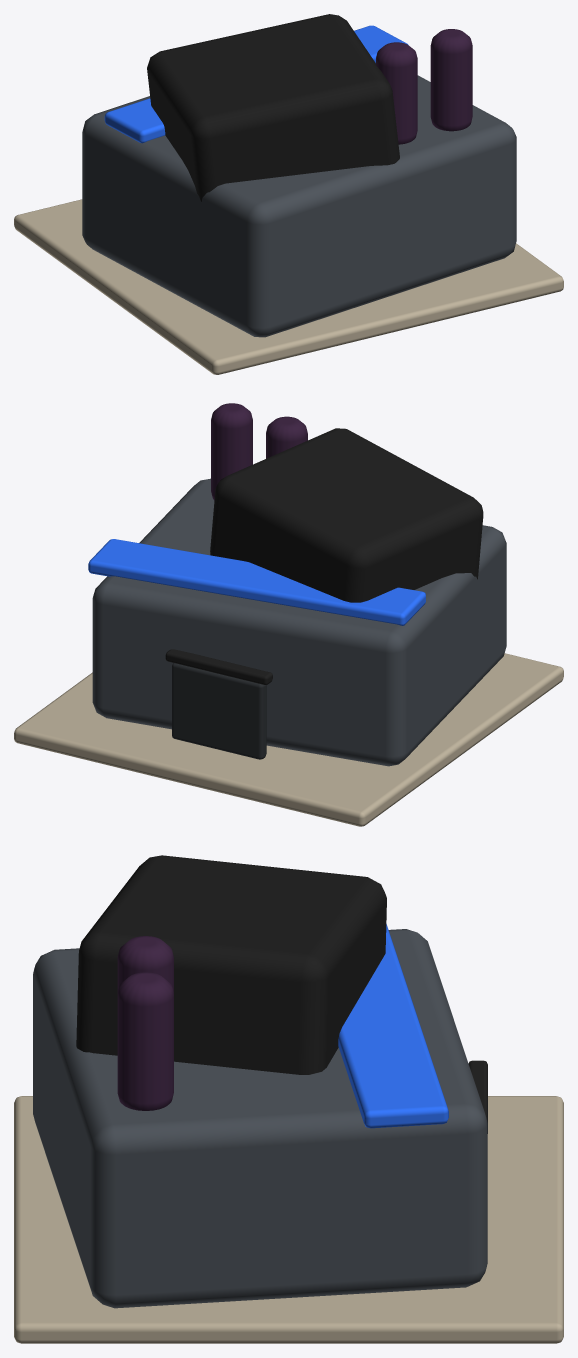
File: composite_foundry.glb
3 renders of one model, top to bottom at view 1: azimuth 30°, elevation 25°; view 2: azimuth 150°, elevation 25°; view 3: azimuth 270°, elevation 25°, orthographic. The views are drawn at different scales.
Visible parts, largest first — view 1: stage_2__M_SmokePlastic, stage_3__M_Licorice, stage_0__M_SugarPad, stage_3__M_GrapeVent, stage_2__M_Team; view 2: stage_2__M_SmokePlastic, stage_3__M_Licorice, stage_0__M_SugarPad, stage_2__M_Team, stage_1__M_Dark, stage_3__M_GrapeVent, stage_2__M_Licorice; view 3: stage_2__M_SmokePlastic, stage_0__M_SugarPad, stage_3__M_Licorice, stage_2__M_Team, stage_3__M_GrapeVent, stage_2__M_Licorice.
Boxes of the visible parts, x1,y1,x2,y2 form: stage_2__M_SmokePlastic: [82, 75, 516, 337]; stage_3__M_Licorice: [147, 14, 399, 201]; stage_0__M_SugarPad: [14, 199, 563, 374]; stage_3__M_GrapeVent: [376, 29, 472, 144]; stage_2__M_Team: [104, 25, 408, 143]; stage_2__M_SmokePlastic: [92, 478, 506, 766]; stage_3__M_Licorice: [210, 428, 483, 602]; stage_0__M_SugarPad: [14, 653, 563, 826]; stage_2__M_Team: [88, 539, 425, 625]; stage_1__M_Dark: [172, 663, 266, 759]; stage_3__M_GrapeVent: [211, 403, 307, 500]; stage_2__M_Licorice: [165, 649, 272, 684]; stage_2__M_SmokePlastic: [33, 929, 487, 1308]; stage_0__M_SugarPad: [14, 1096, 563, 1343]; stage_3__M_Licorice: [76, 855, 386, 1074]; stage_2__M_Team: [338, 924, 448, 1128]; stage_3__M_GrapeVent: [117, 936, 173, 1110]; stage_2__M_Licorice: [468, 1060, 487, 1133].
Size of the model in its own units: 1.92 by 1.25 by 1.92.
